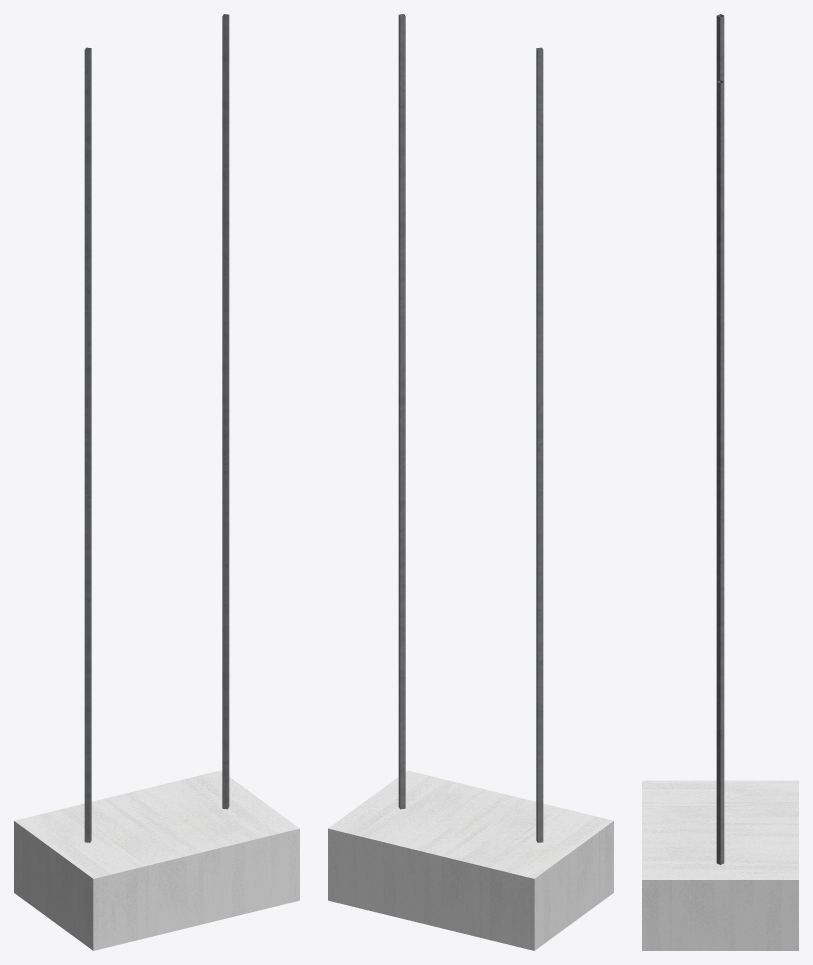
The model's file is warehouse_overheadlight.glb.
3 renders of one model, left to right at view 1: azimuth 30°, elevation 25°; view 2: azimuth 150°, elevation 25°; view 3: azimuth 270°, elevation 25°, orthographic.
Parts seen in each view (by area): view 1: Cube.278; view 2: Cube.278; view 3: Cube.278.
Part boxes in pixels (<box>): Cube.278: <box>14,14,299,950</box>; Cube.278: <box>328,14,613,950</box>; Cube.278: <box>642,14,798,950</box>.
Bounding box in the file's own units: 3 × 12 × 2.
Materials: 3 (2 with a texture image).
